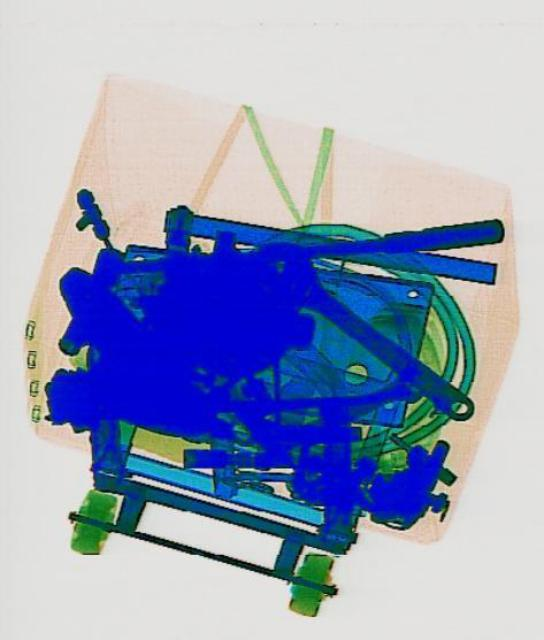Wrench: (236, 223, 486, 443)
